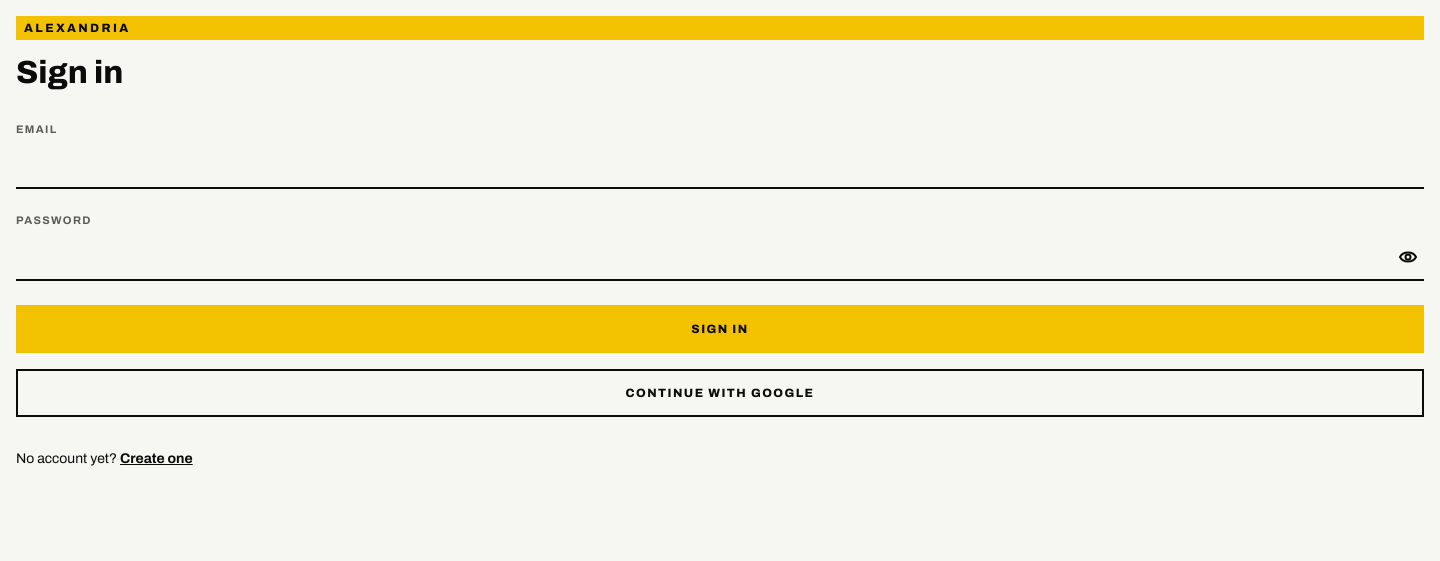
Scenario: Login › reports bad credentials inline, naming the cause
Type "a@b.c" into the field labelled "Email" at (720, 165), box 16,141 -> 1424,189
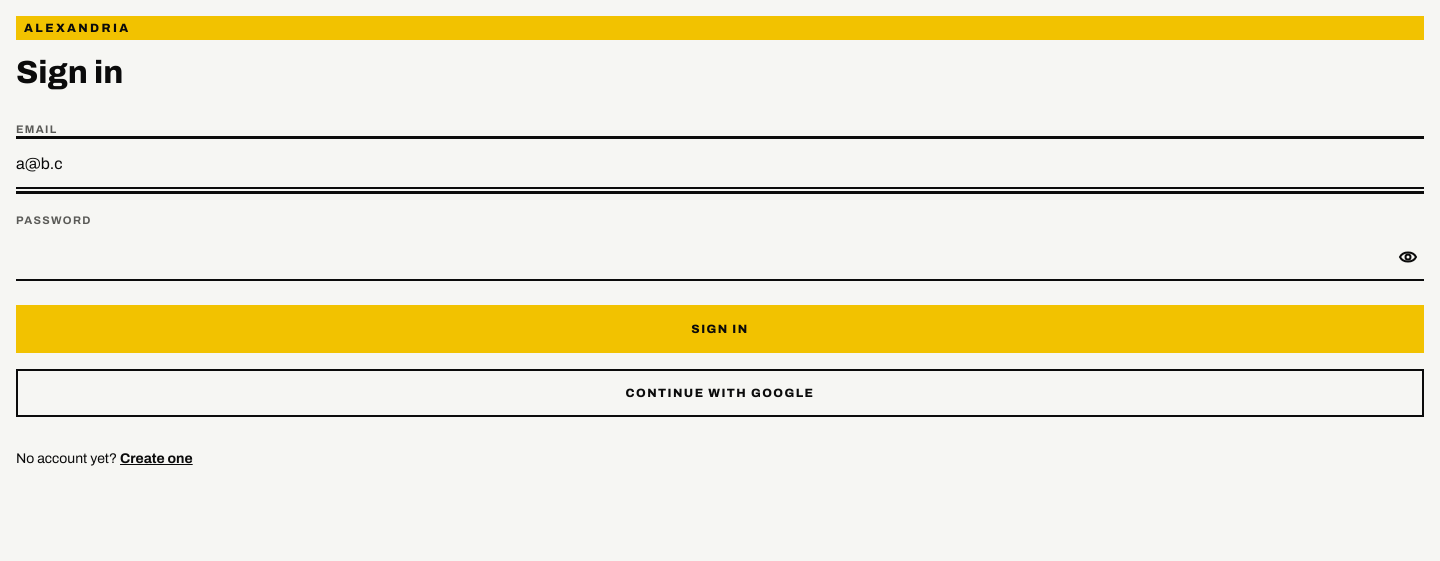
Type "wrong" into the password field labelled "Password" at (700, 257), box 16,233 -> 1384,281
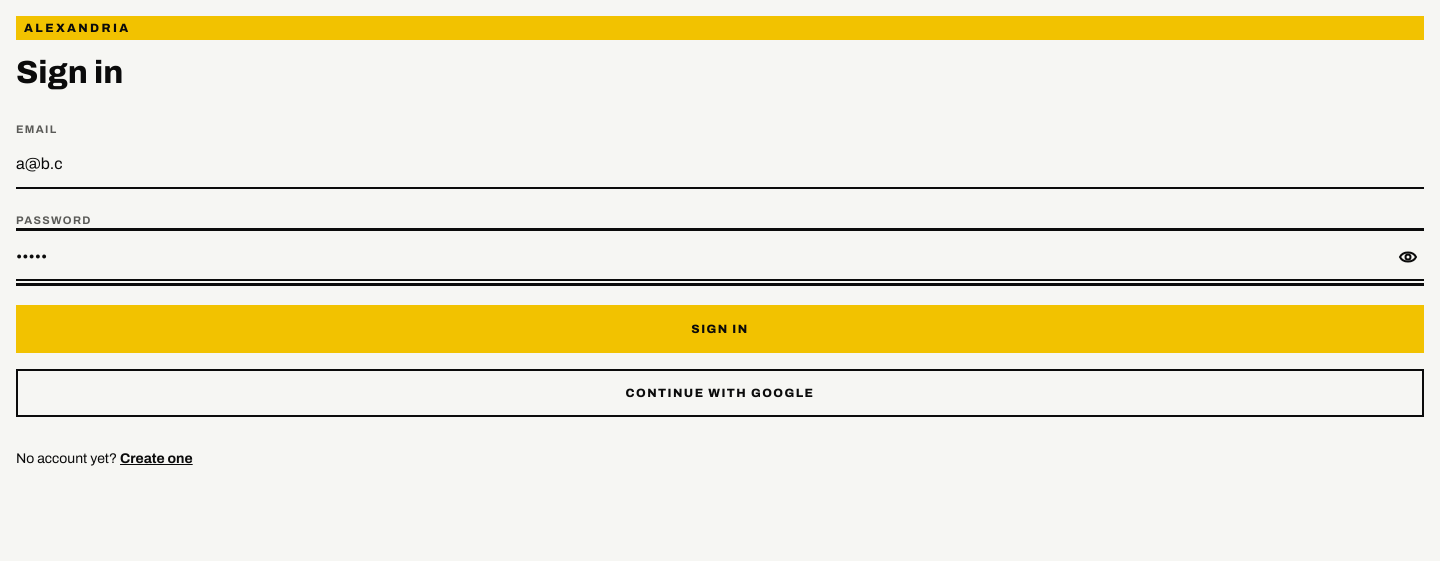
Click the button "Sign in" at (720, 329), box 16,305 -> 1424,353
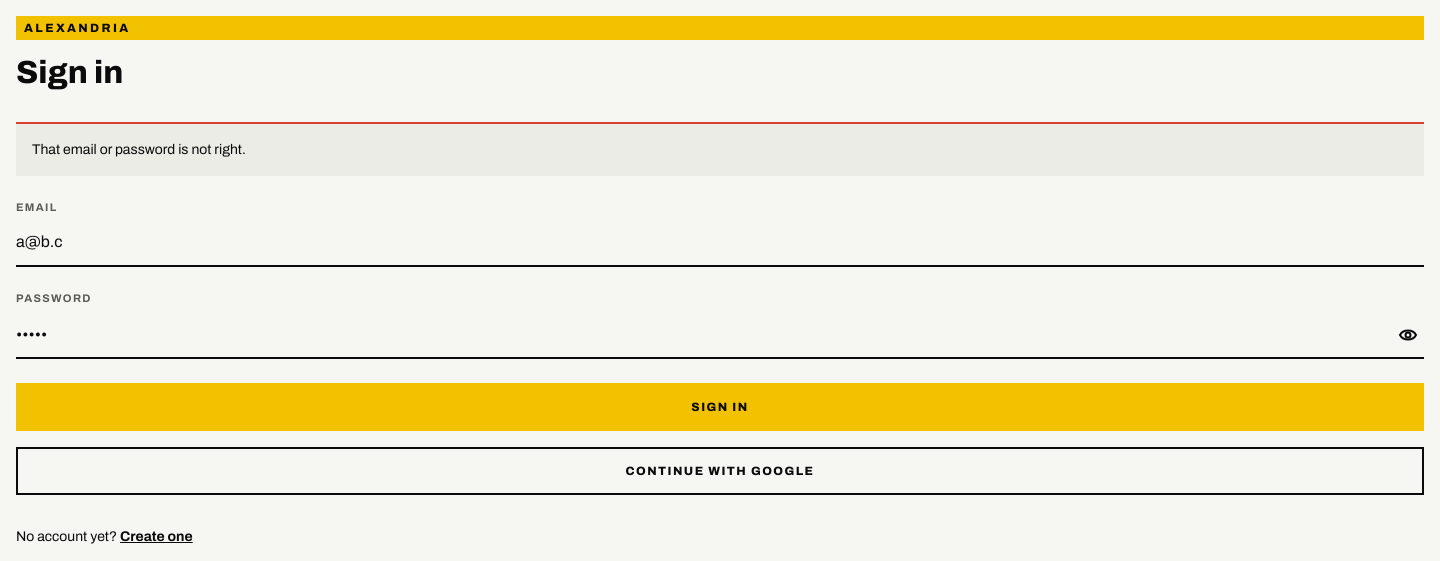
Expected: the message shows "email or password", 32,142 -> 246,157
